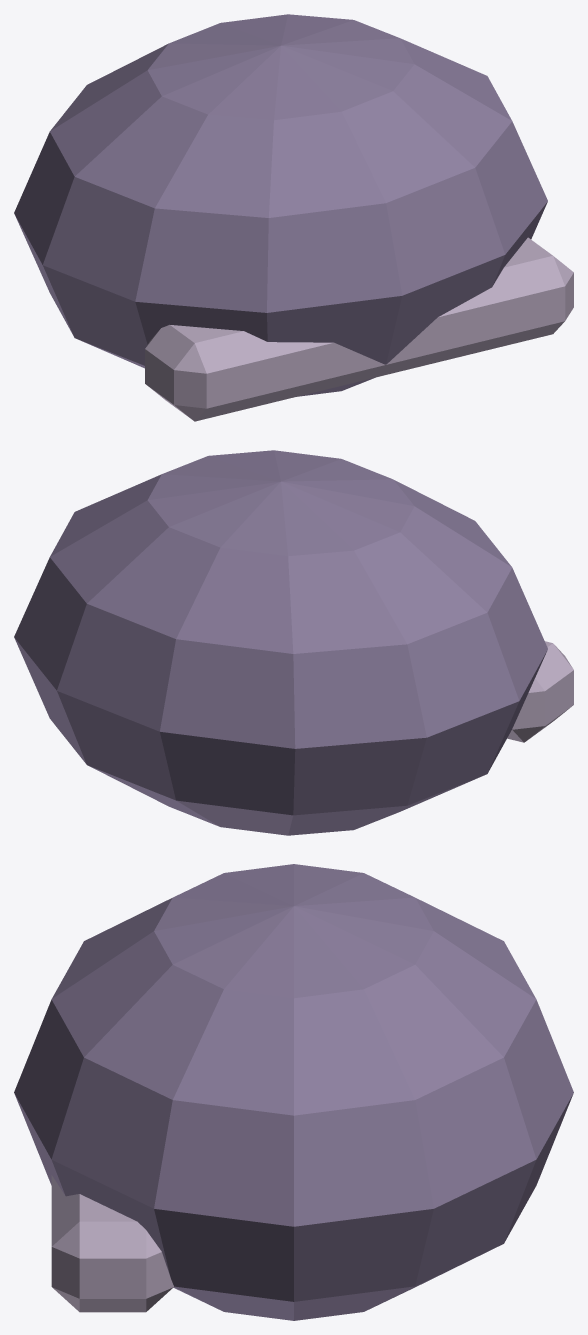
The model's file is padded_hood.glb.
3 views of the same model, one above another, from view 1: azimuth 30°, elevation 25°; view 2: azimuth 150°, elevation 25°; view 3: azimuth 270°, elevation 25° (orthographic). The views are drawn at different scales.
Visible parts, largest first — view 1: Gear_Head_Hood__Cap, Gear_Head_Hood__Brim; view 2: Gear_Head_Hood__Cap, Gear_Head_Hood__Brim; view 3: Gear_Head_Hood__Cap, Gear_Head_Hood__Brim.
Part boxes in pixels (x1,y1,x2,y2): Gear_Head_Hood__Cap: (14, 14, 547, 396); Gear_Head_Hood__Brim: (145, 237, 573, 421); Gear_Head_Hood__Cap: (14, 450, 547, 835); Gear_Head_Hood__Brim: (507, 641, 573, 742); Gear_Head_Hood__Cap: (14, 864, 573, 1320); Gear_Head_Hood__Brim: (51, 1175, 173, 1312).
Size of the model in its own units: 0.572 by 0.37 by 0.504.
